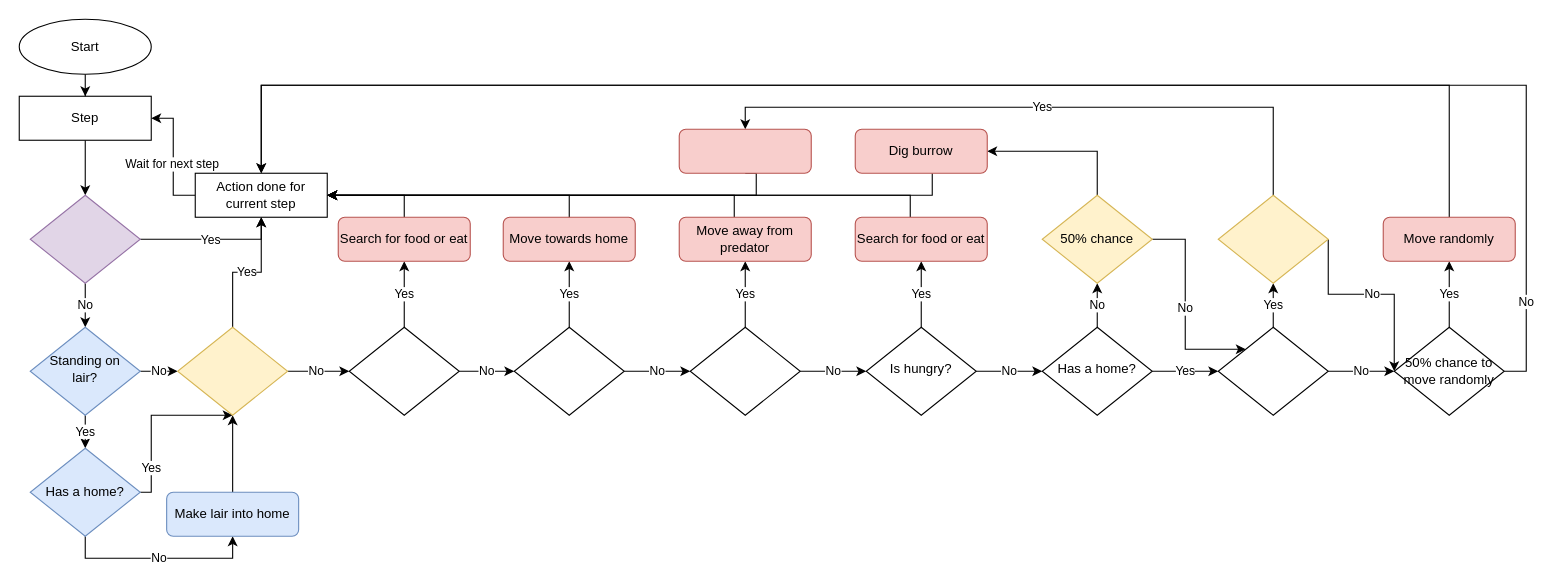
This 1554x586 diagram has some shape labels left out. Here are the shapes that lost their labels. From the top down, the box of each, then its label:
(678, 128, 811, 173): Reproduce
(29, 194, 140, 283): In lair?
(1217, 194, 1328, 283): 25% chance
(177, 326, 288, 415): (Age*3)% chance to do nothing
(348, 326, 459, 415): Is starving?
(513, 326, 624, 415): Is night and has home?
(689, 326, 800, 415): Is predator nearby?
(1217, 326, 1328, 415): Is adult and near another adult?
